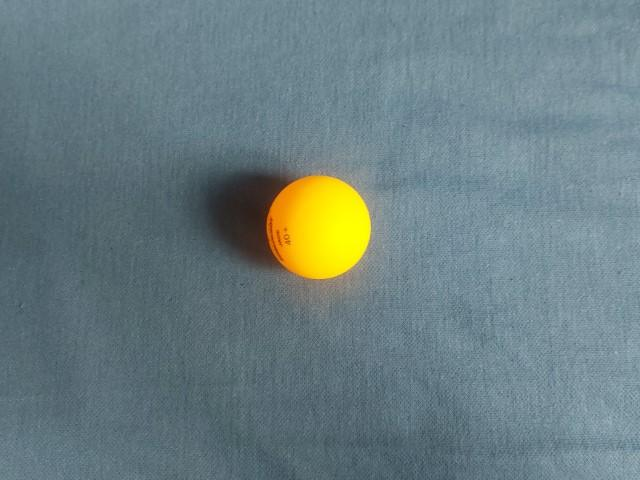oball: (254, 193, 380, 318)
